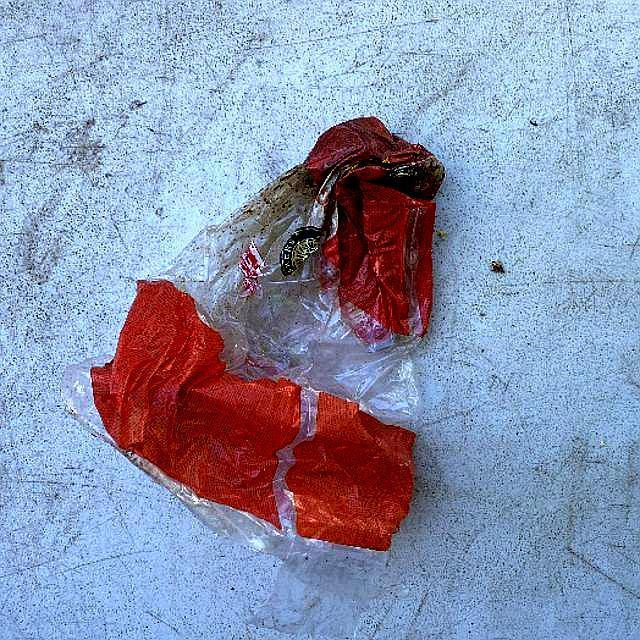Non-biodegradable: (19, 89, 471, 635)
